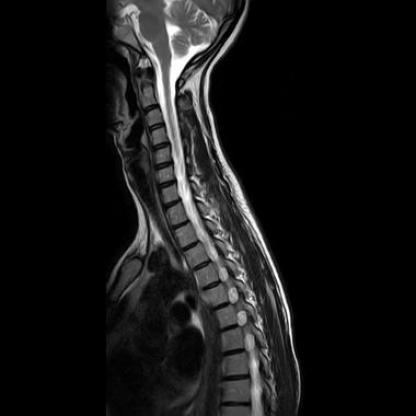Disc Bulgerotation: (152, 139, 170, 152)
